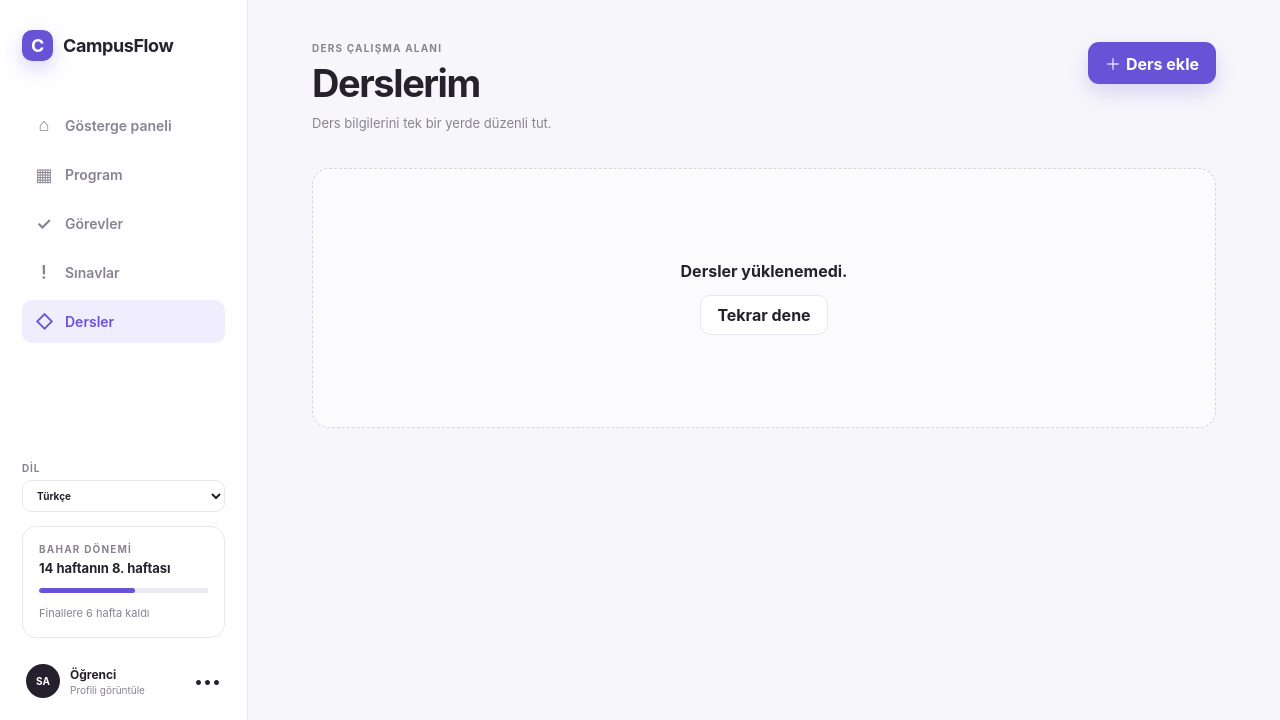
CampusFlow web application › shows a load error and retries the course request
Expected: the text "Dersler yüklenemedi." is shown, [681,260,848,280]
Click the button "Tekrar dene".
click(764, 314)  # box [700,294,828,334]
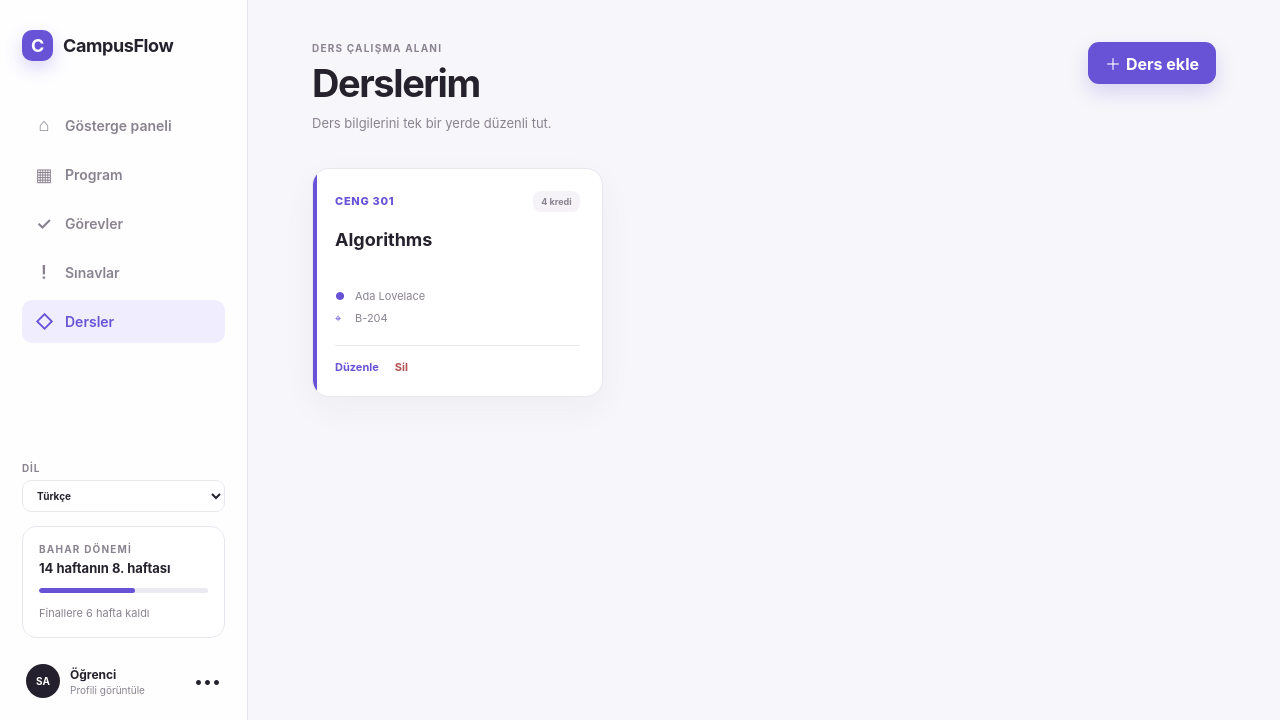
Now the heading "Algorithms" is shown, box [335,228,432,250]
